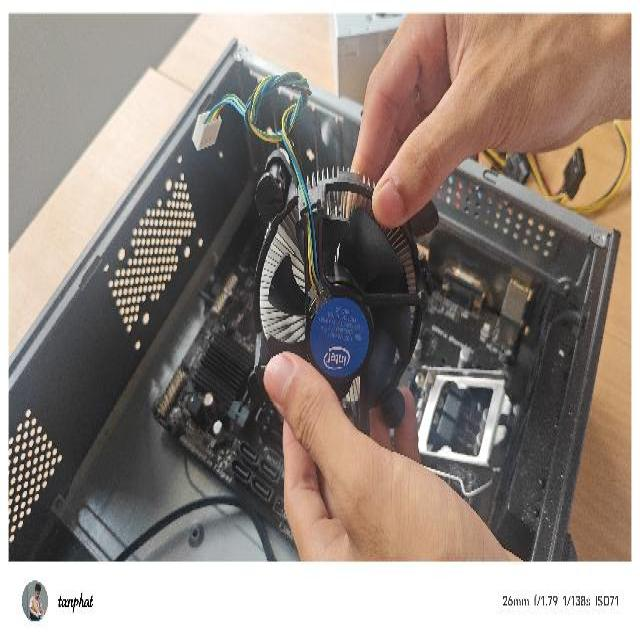CPU_Fan: (245, 129, 440, 453)
